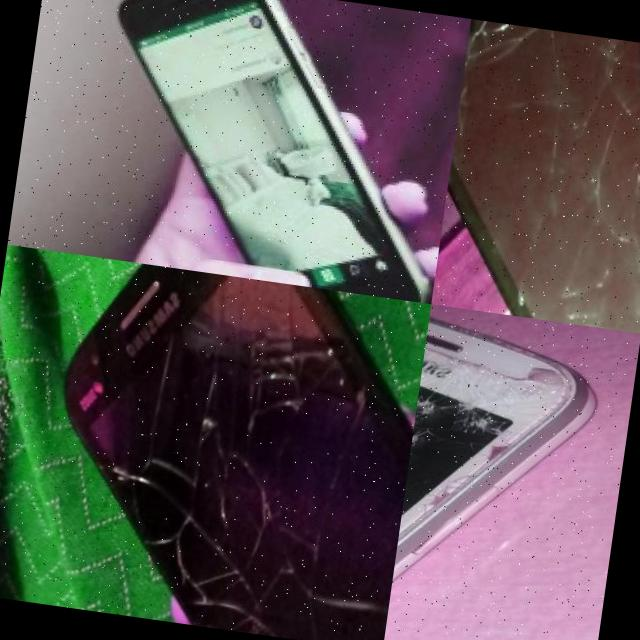screen crack: (50, 257, 431, 640), (431, 18, 640, 333), (398, 310, 595, 563)
